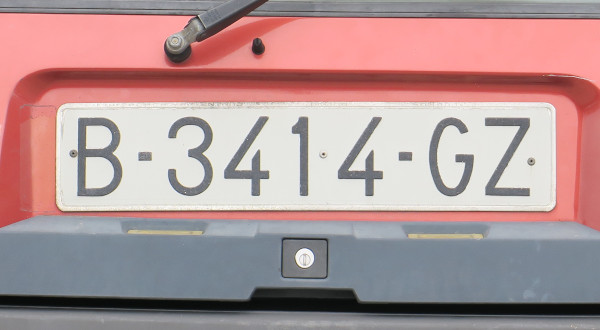license_plate: (55, 103, 557, 212)
